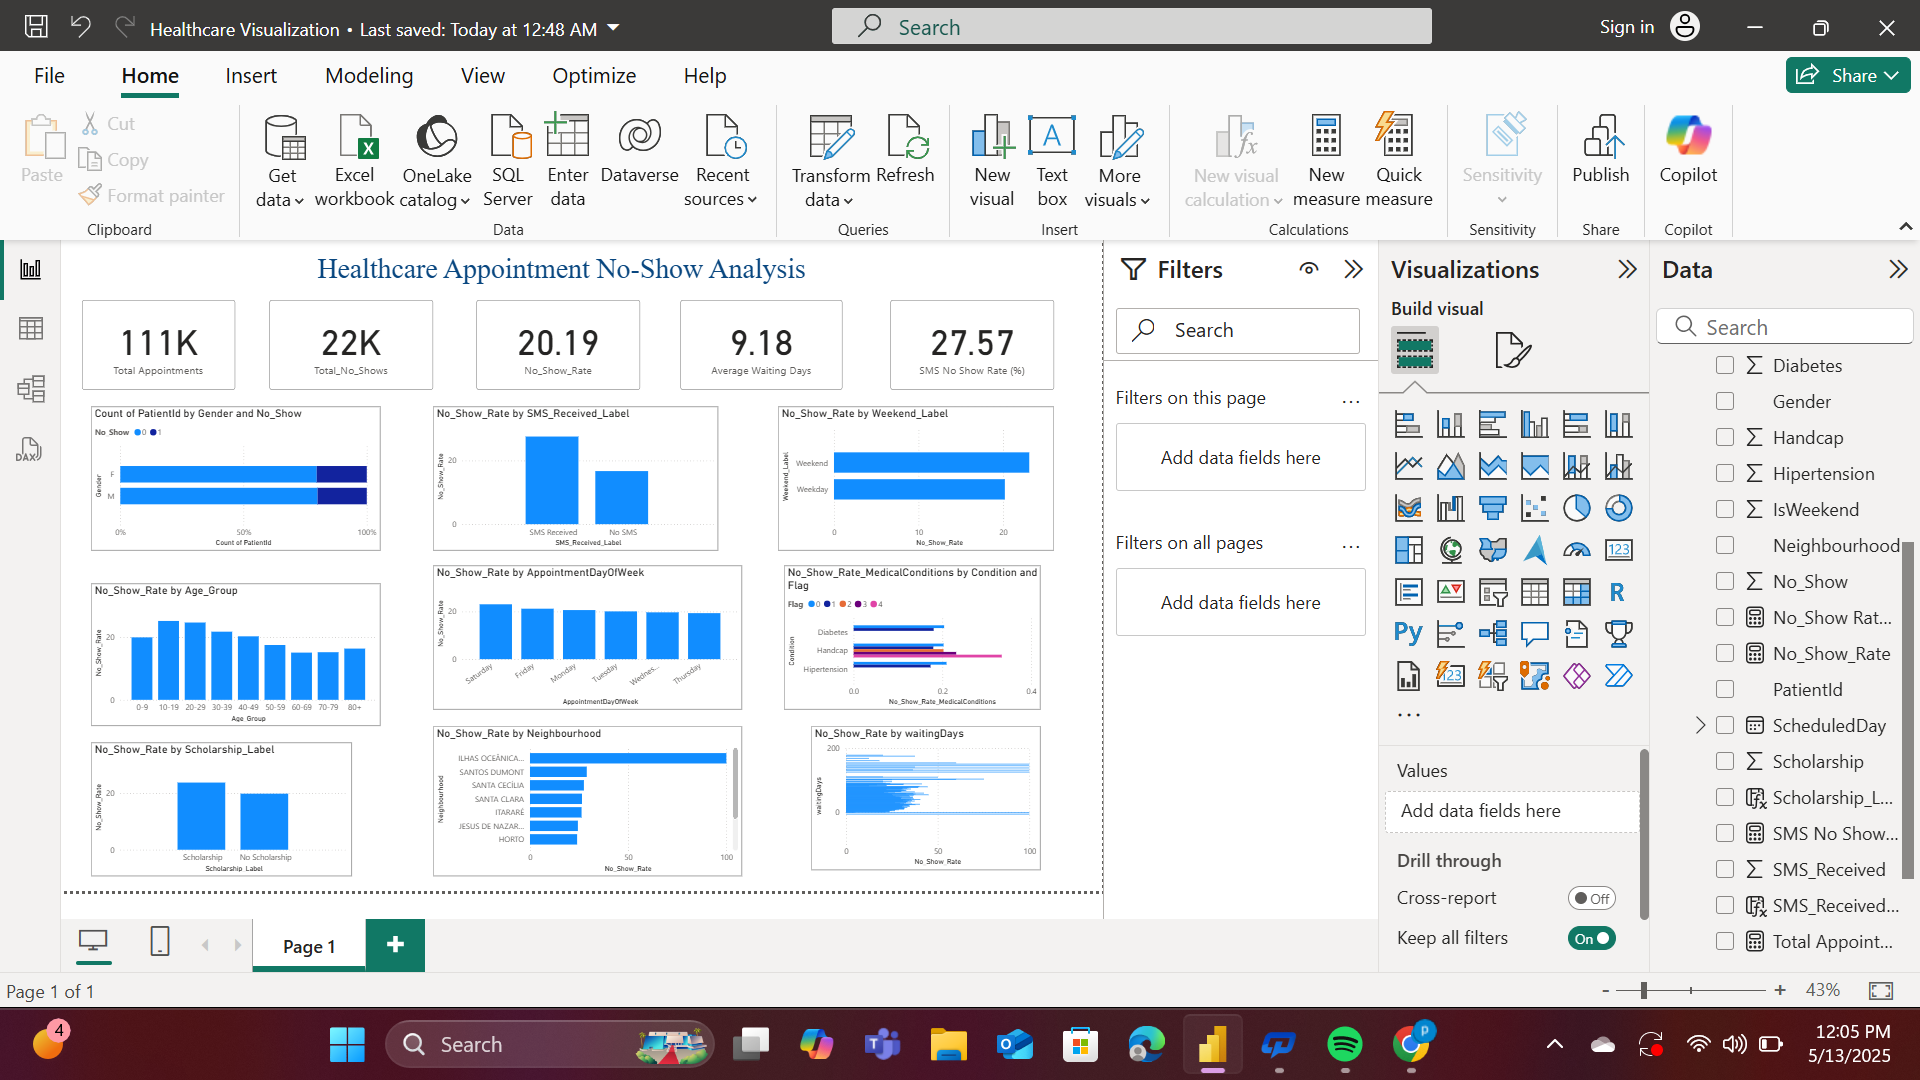

The page's visual inventory and layout, read from the dashboard file:
{"tool":"powerbi","page":{"name":"Page 1","canvas":[1600,1000],"ordinal":0},"visuals":[{"type":"textbox","box":[9.4,0,712.4,58.6],"z":0},{"type":"textbox","box":[78.3,13.8,1341.2,66.8],"z":1000},{"type":"card","fields":{"Values":["healthcare_updated.Total Appointments"]},"box":[32.3,92.2,235,138.3],"z":2000},{"type":"card","fields":{"Values":["healthcare_updated.Total_No_Shows"]},"box":[320.3,92.2,251.2,138.3],"z":3000},{"type":"card","fields":{"Values":["healthcare_updated.No_Show_Rate"]},"box":[638.3,92.2,251.2,138.3],"z":4000},{"type":"card","fields":{"Values":["healthcare_updated.Average Waiting Days"]},"box":[951.7,92.2,248.9,138.3],"z":5000},{"type":"card","fields":{"Values":["healthcare_updated.SMS No Show Rate (%)"]},"box":[1274.3,92.2,251.2,138.3],"z":6000},{"type":"hundredPercentStackedBarChart","title":"No_Show by Gender","fields":{"Category":["healthcare_updated.Gender"],"Y":["healthcare_updated.PatientId"],"Series":["healthcare_updated.No_Show"]},"box":[46.1,255.8,444.7,221.2],"z":7000},{"type":"clusteredColumnChart","fields":{"Category":["healthcare_updated.Age_Group"],"Y":["healthcare_updated.No_Show_Rate"]},"box":[46.1,527.7,444.7,218.9],"z":8000},{"type":"clusteredColumnChart","title":"No_Show_Rate by SMS_Received","fields":{"Category":["healthcare_updated.SMS_Received_Label"],"Y":["healthcare_updated.No_Show_Rate"]},"box":[571.5,255.8,437.8,221.2],"z":9000},{"type":"clusteredColumnChart","fields":{"Category":["healthcare_updated.AppointmentDayOfWeek"],"Y":["healthcare_updated.No_Show_Rate"]},"box":[571.5,500.1,474.7,221.2],"z":10000},{"type":"clusteredBarChart","title":"No_Show_Rate by Weekend","fields":{"Category":["healthcare_updated.Weekend_Label"],"Y":["healthcare_updated.No_Show_Rate"]},"box":[1101.5,255.8,424,221.2],"z":11000},{"type":"clusteredBarChart","title":"No_Show_Rate by Medical Conditions","fields":{"Category":["MedicalConditions.Condition"],"Series":["MedicalConditions.Flag"],"Y":["MedicalConditions.No_Show_Rate_MedicalConditions"]},"box":[1110.7,500.1,394.1,221.2],"z":12000},{"type":"clusteredBarChart","fields":{"Y":["healthcare_updated.No_Show_Rate"],"Category":["healthcare_updated.Neighbourhood"]},"box":[571.5,746.6,474.7,230.4],"z":13000},{"type":"clusteredBarChart","fields":{"Category":["healthcare_updated.waitingDays"],"Y":["healthcare_updated.No_Show_Rate"]},"box":[1152.2,746.6,352.6,221.2],"z":14000},{"type":"clusteredColumnChart","title":"No_Show_Rate by Scholarship","fields":{"Y":["healthcare_updated.No_Show_Rate"],"Category":["healthcare_updated.Scholarship_Label"]},"box":[46.1,772,401,205.1],"z":15000}]}

Visuals, with their boxes on the page's 1600x1000 design canvas (x1, y1, x2, y2). These are canvas units, not pixel positions in the 1920x1080 screenshot, which may show the page scaled, cropped or inside an application window:
textbox: 9,0,722,59
textbox: 78,14,1420,81
card - healthcare_updated.Total Appointments: 32,92,267,230
card - healthcare_updated.Total_No_Shows: 320,92,572,230
card - healthcare_updated.No_Show_Rate: 638,92,890,230
card - healthcare_updated.Average Waiting Days: 952,92,1201,230
card - healthcare_updated.SMS No Show Rate (%): 1274,92,1526,230
"No_Show by Gender" hundredPercentStackedBarChart: 46,256,491,477
clusteredColumnChart - healthcare_updated.Age_Group x healthcare_updated.No_Show_Rate: 46,528,491,747
"No_Show_Rate by SMS_Received" clusteredColumnChart: 572,256,1009,477
clusteredColumnChart - healthcare_updated.AppointmentDayOfWeek x healthcare_updated.No_Show_Rate: 572,500,1046,721
"No_Show_Rate by Weekend" clusteredBarChart: 1102,256,1526,477
"No_Show_Rate by Medical Conditions" clusteredBarChart: 1111,500,1505,721
clusteredBarChart - healthcare_updated.No_Show_Rate x healthcare_updated.Neighbourhood: 572,747,1046,977
clusteredBarChart - healthcare_updated.waitingDays x healthcare_updated.No_Show_Rate: 1152,747,1505,968
"No_Show_Rate by Scholarship" clusteredColumnChart: 46,772,447,977
